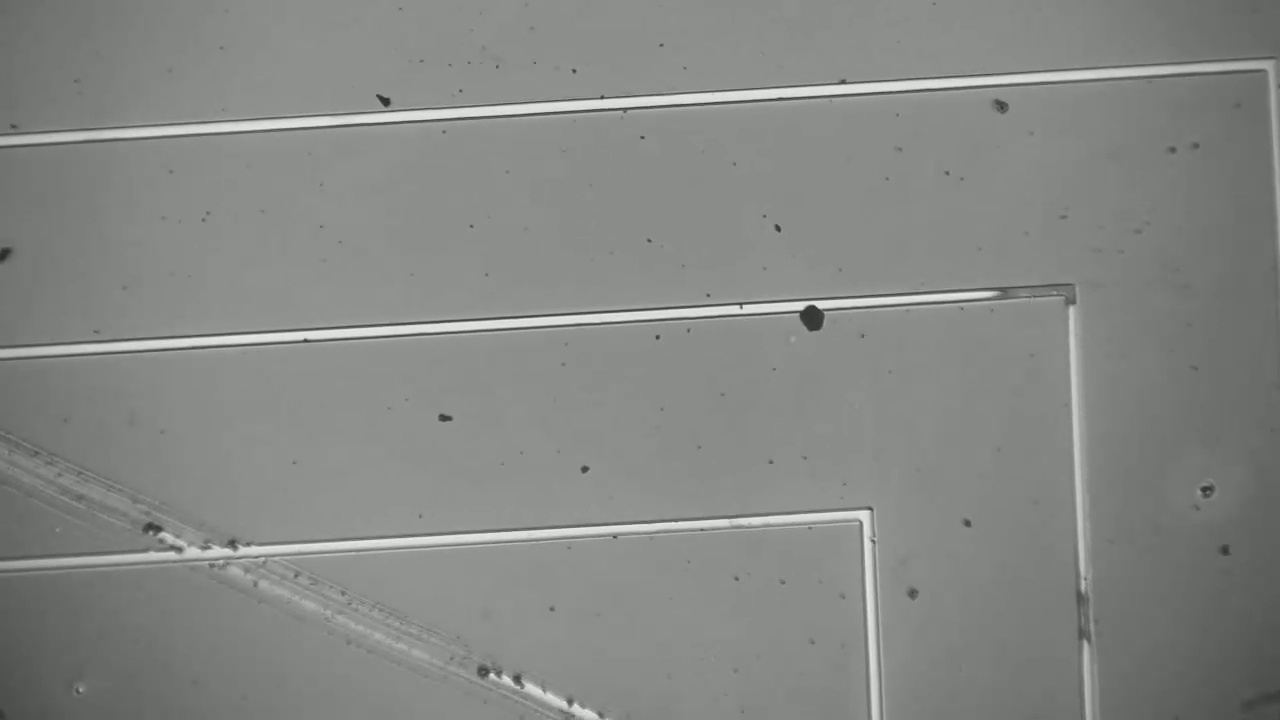edge_bite: (855, 531, 880, 551)
gray_line: (970, 281, 1086, 307), (1070, 579, 1099, 662), (1059, 272, 1085, 323)
scratch: (0, 433, 612, 719)
stains_enbedded: (786, 290, 833, 337)
